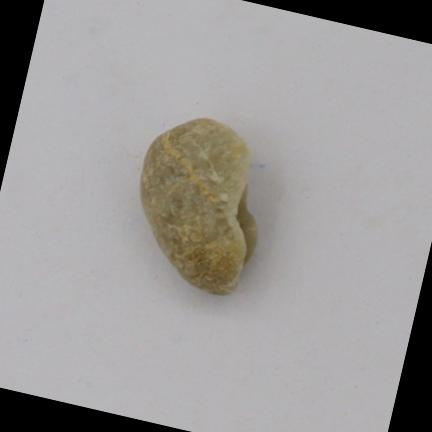broken: (140, 118, 257, 295)
